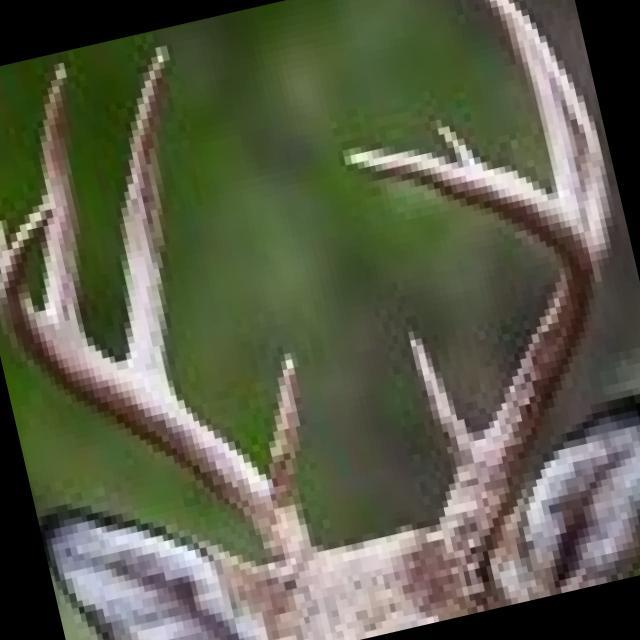L-F: (340, 144, 595, 608)
L-G1: (403, 324, 476, 475)
L-G3: (497, 9, 586, 230)
L-G4: (426, 113, 491, 165)
R-G1: (264, 347, 307, 518)
R-G2: (118, 37, 180, 398)
R-G3: (37, 58, 89, 339)
